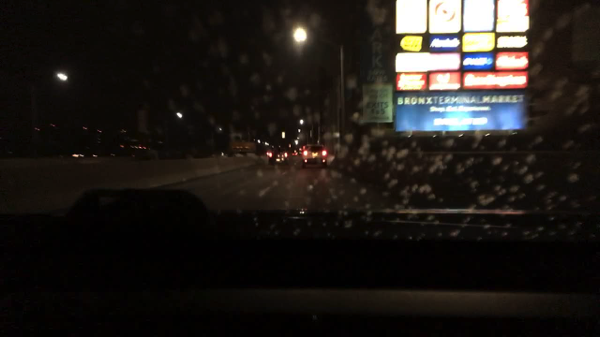car: (301, 144, 328, 168), (231, 137, 263, 157), (266, 147, 288, 167)
traffic sign: (361, 85, 395, 123)
